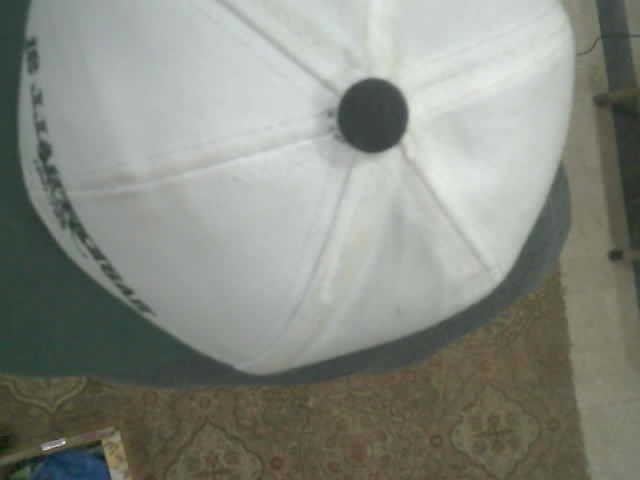cap: (18, 0, 573, 375)
